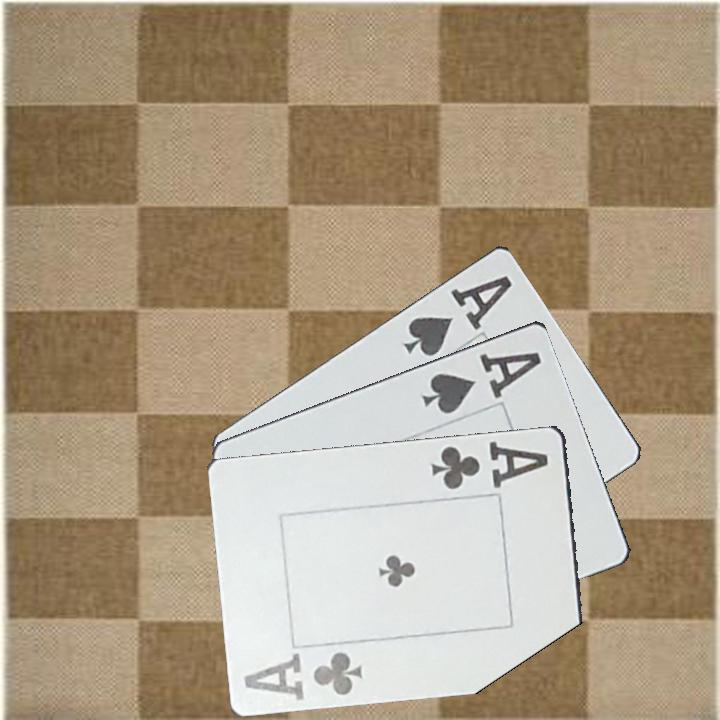Ac: (241, 647, 366, 703), (427, 437, 552, 492)
As: (398, 271, 516, 359), (417, 347, 545, 416)
